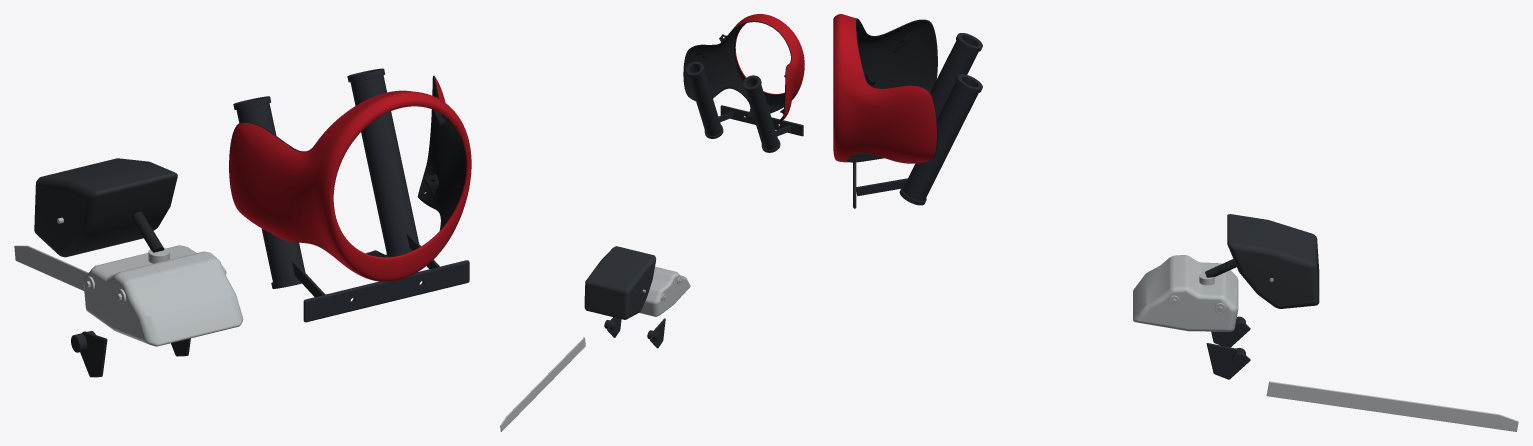
Rendered from proportion-additions-raw.glb.
The picture shows the model from 3 angles, left to right: view 1: azimuth 30°, elevation 25°; view 2: azimuth 150°, elevation 25°; view 3: azimuth 270°, elevation 25°; orthographic projection. The views are drawn at different scales.
Parts seen in each view (by area): view 1: Reprofiled headlamp cowl shell, Upper rear crankcase continuous shoulder, Air cleaner lower continuous neck, Long black fork headlamp support 1, Lower headlamp front carrier bar, Long black fork headlamp support -1, Chaincase recessed joining return, Pivot frame mounting cheek -1, Breather union to air cleaner; view 2: Reprofiled headlamp cowl shell, Air cleaner lower continuous neck, Upper rear crankcase continuous shoulder, Long black fork headlamp support -1, Long black fork headlamp support 1, Chaincase recessed joining return, Lower headlamp front carrier bar; view 3: Reprofiled headlamp cowl shell, Air cleaner lower continuous neck, Upper rear crankcase continuous shoulder, Chaincase recessed joining return, Long black fork headlamp support 1, Long black fork headlamp support -1, Pivot frame mounting cheek 1.
Part boxes in pixels (left/top/right/bottom): Reprofiled headlamp cowl shell: left=229, top=75, right=471, bottom=281; Upper rear crankcase continuous shoulder: left=83, top=245, right=243, bottom=346; Air cleaner lower continuous neck: left=34, top=158, right=177, bottom=257; Long black fork headlamp support 1: left=350, top=69, right=419, bottom=254; Lower headlamp front carrier bar: left=303, top=260, right=469, bottom=322; Long black fork headlamp support -1: left=236, top=96, right=305, bottom=282; Chaincase recessed joining return: left=14, top=245, right=88, bottom=290; Pivot frame mounting cheek -1: left=80, top=331, right=107, bottom=377; Breather union to air cleaner: left=132, top=211, right=164, bottom=252; Reprofiled headlamp cowl shell: left=683, top=14, right=804, bottom=121; Air cleaner lower continuous neck: left=584, top=246, right=656, bottom=319; Upper rear crankcase continuous shoulder: left=639, top=266, right=690, bottom=316; Long black fork headlamp support -1: left=745, top=76, right=778, bottom=150; Long black fork headlamp support 1: left=688, top=62, right=721, bottom=136; Chaincase recessed joining return: left=500, top=337, right=585, bottom=431; Lower headlamp front carrier bar: left=720, top=105, right=803, bottom=136; Reprofiled headlamp cowl shell: left=833, top=14, right=937, bottom=163; Air cleaner lower continuous neck: left=1227, top=214, right=1319, bottom=308; Upper rear crankcase continuous shoulder: left=1133, top=255, right=1238, bottom=331; Chaincase recessed joining return: left=1266, top=381, right=1518, bottom=431; Long black fork headlamp support 1: left=902, top=75, right=978, bottom=200; Long black fork headlamp support -1: left=930, top=33, right=978, bottom=118; Pivot frame mounting cheek 1: left=1206, top=343, right=1250, bottom=379.
Bounding box in the file's own units: 0.3137 × 0.7606 × 1.23.
